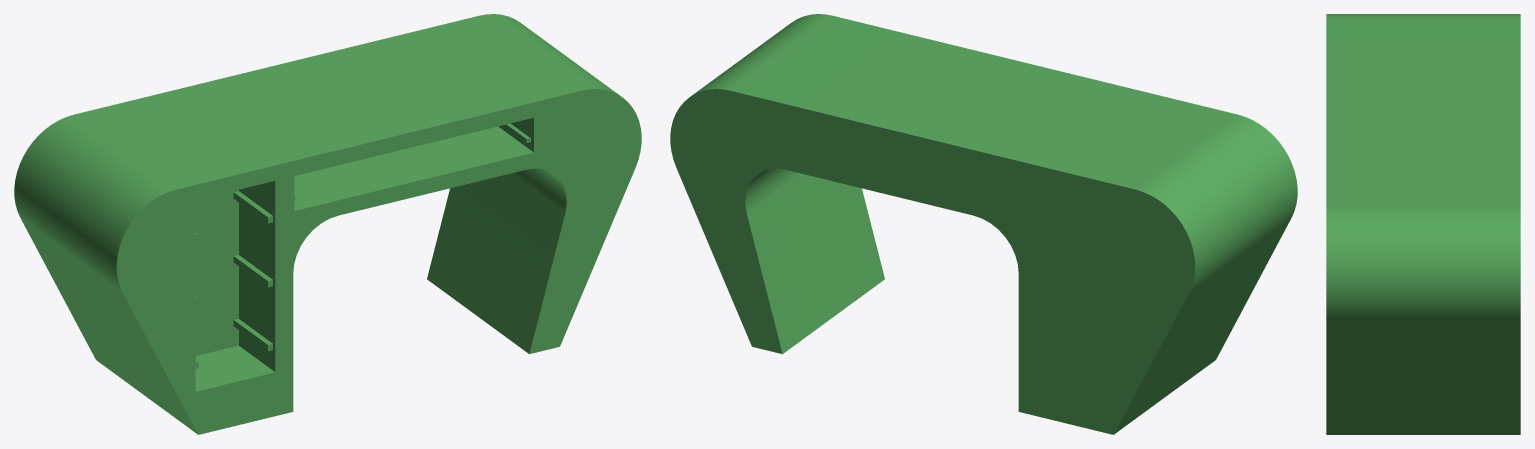
The model's file is SM_VanityDresser_01c.fbx.
3 views of the same model, side by side, from view 1: azimuth 30°, elevation 25°; view 2: azimuth 150°, elevation 25°; view 3: azimuth 270°, elevation 25° (orthographic). The views are drawn at different scales.
Parts seen in each view (by area): view 1: SM_VanityDresser_01c; view 2: SM_VanityDresser_01c; view 3: SM_VanityDresser_01c.
Part boxes in pixels (x1=…): SM_VanityDresser_01c: x1=14, y1=14, x2=641, y2=434; SM_VanityDresser_01c: x1=670, y1=14, x2=1297, y2=434; SM_VanityDresser_01c: x1=1326, y1=14, x2=1520, y2=434.
Size of the model in its own units: 5.75 by 2.62 by 1.94.
